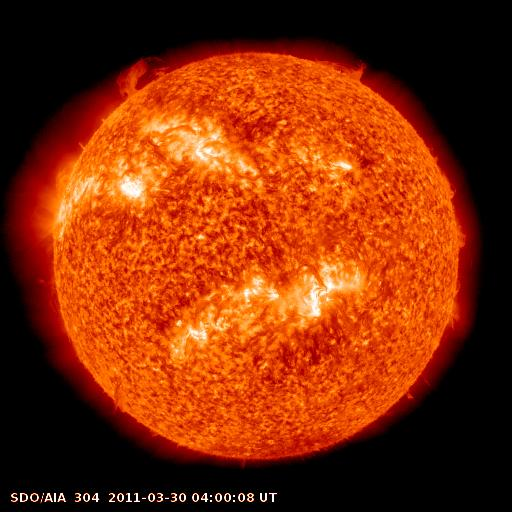prominence: (23, 260, 71, 327), (111, 53, 179, 100), (308, 45, 374, 90), (421, 140, 465, 203), (433, 275, 469, 336), (448, 214, 475, 258)
